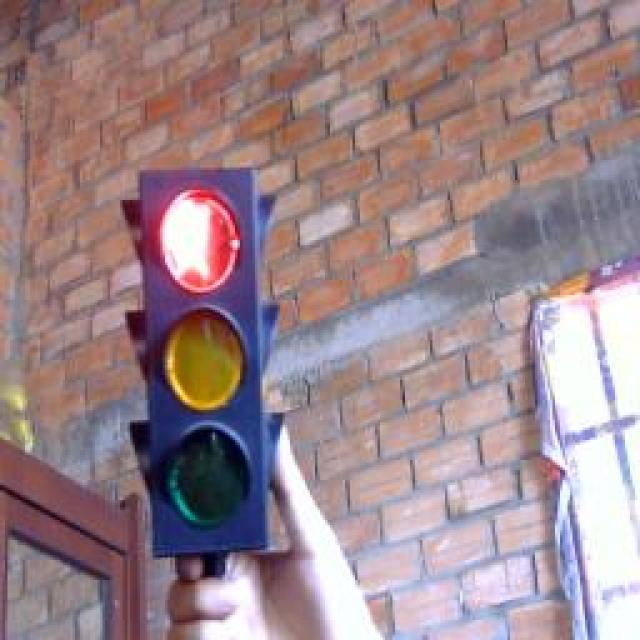-: (145, 176, 252, 298)
